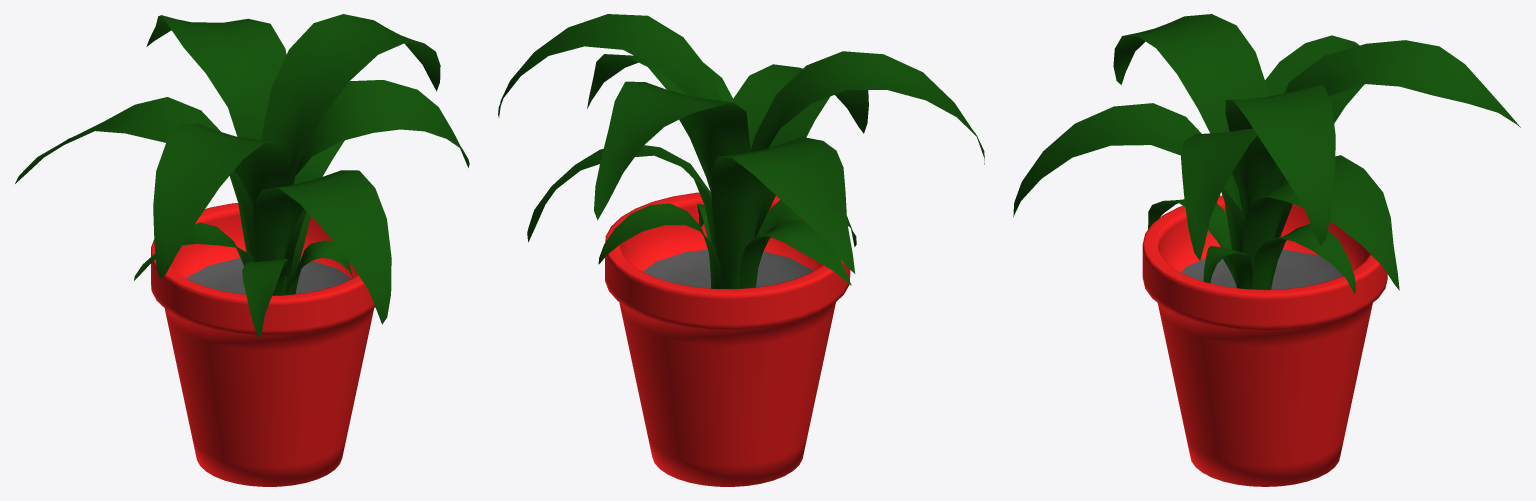
File: Maceta_UVO.FBX
3 renders of one model, left to right at view 1: azimuth 30°, elevation 25°; view 2: azimuth 150°, elevation 25°; view 3: azimuth 270°, elevation 25°, orthographic. The views are drawn at different scales.
Parts seen in each view (by area): view 1: leaf_Plane_010, maceta_Cylinder; view 2: leaf_Plane_010, maceta_Cylinder; view 3: leaf_Plane_010, maceta_Cylinder.
Boxes of the visible parts, x1,y1,x2,y2 form: leaf_Plane_010: (15, 14, 469, 338); maceta_Cylinder: (151, 203, 375, 486); leaf_Plane_010: (498, 14, 984, 288); maceta_Cylinder: (605, 192, 850, 486); leaf_Plane_010: (1013, 14, 1520, 294); maceta_Cylinder: (1142, 195, 1387, 486).
Bounding box in the file's own units: 0.5866 × 0.5777 × 0.6523.
